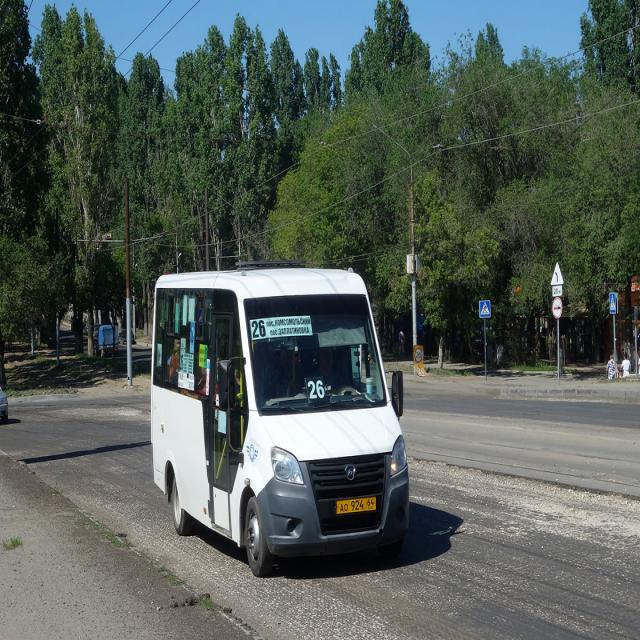number-of-bus: (307, 379, 326, 402), (251, 320, 268, 340)
